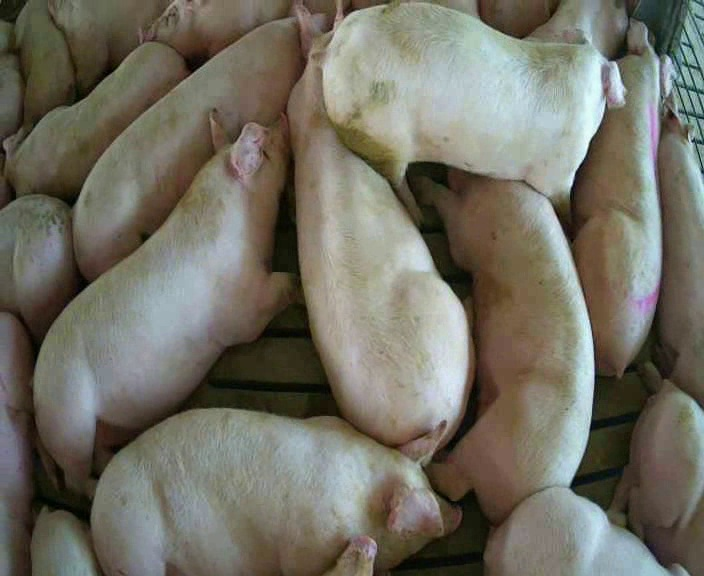pig: (35, 113, 290, 493), (312, 5, 623, 221), (92, 409, 459, 574), (572, 20, 672, 376), (4, 43, 188, 199), (608, 380, 703, 574), (484, 487, 688, 575), (0, 194, 79, 341), (48, 1, 168, 97), (142, 1, 291, 66), (16, 2, 74, 130), (525, 1, 628, 58), (31, 506, 100, 575)
